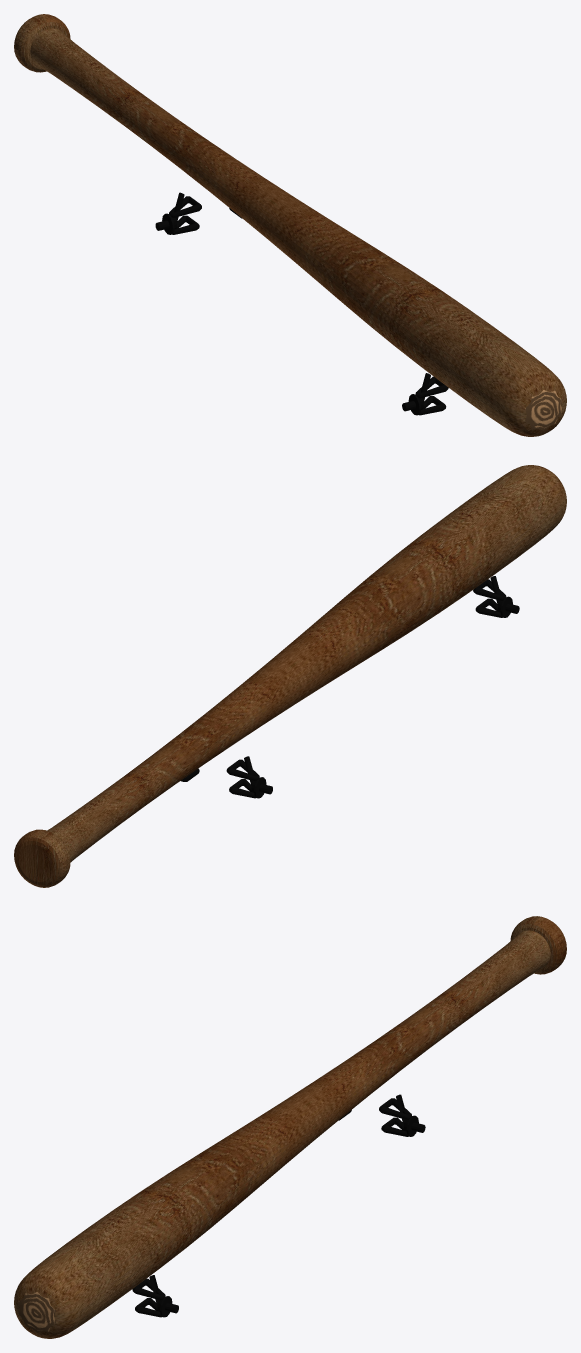
3 views of the same model, one above another, from view 1: azimuth 30°, elevation 25°; view 2: azimuth 150°, elevation 25°; view 3: azimuth 330°, elevation 25° (orthographic).
Parts seen in each view (by area): view 1: body'; view 2: body'; view 3: body'.
Part boxes in pixels (<box>): body': <box>14,14,566,436</box>; body': <box>14,465,566,887</box>; body': <box>14,916,566,1338</box>.
Bounding box in the file's own units: 1.7 × 1.28 × 13.23.
Materials: 1 (1 with a texture image).
